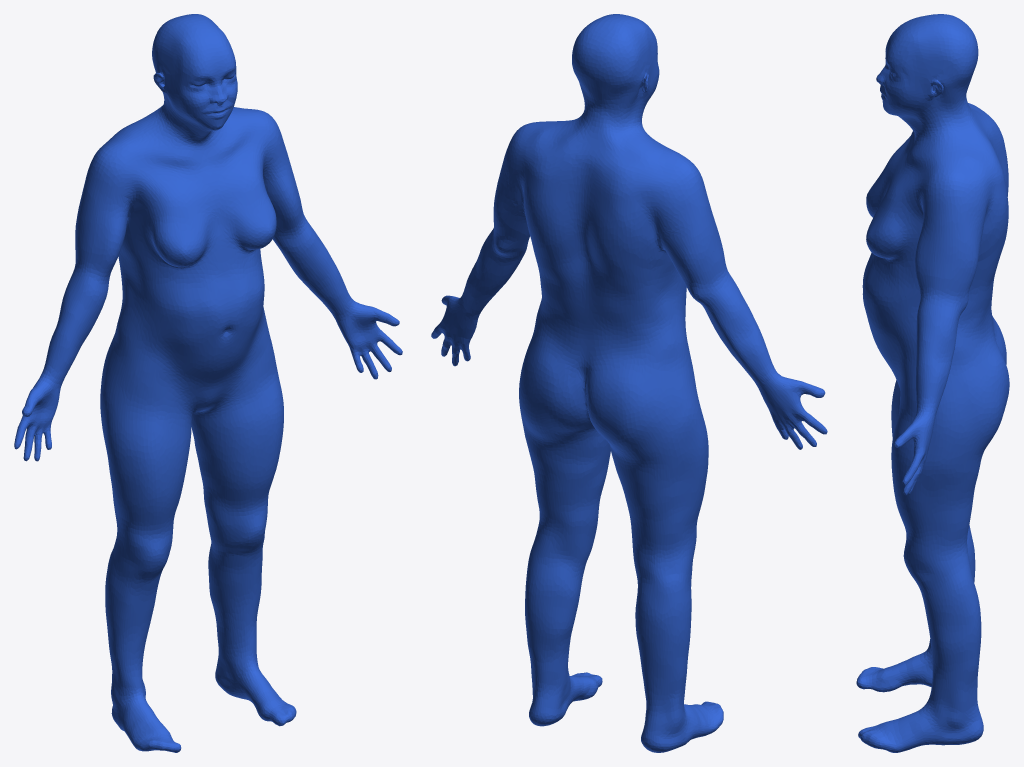
Rendered from 3d-vh-f-skin_0.1.glb.
The picture shows the model from 3 angles, left to right: view 1: azimuth 30°, elevation 25°; view 2: azimuth 150°, elevation 25°; view 3: azimuth 270°, elevation 25°; orthographic projection.
Visible parts, largest first — view 1: VH_F_skin; view 2: VH_F_skin; view 3: VH_F_skin.
Boxes of the visible parts, <box> form: VH_F_skin: <box>14,14,402,752</box>; VH_F_skin: <box>431,14,827,752</box>; VH_F_skin: <box>856,14,1009,752</box>.
Bounding box in the file's own units: 0.968 × 1.67 × 0.3295.
